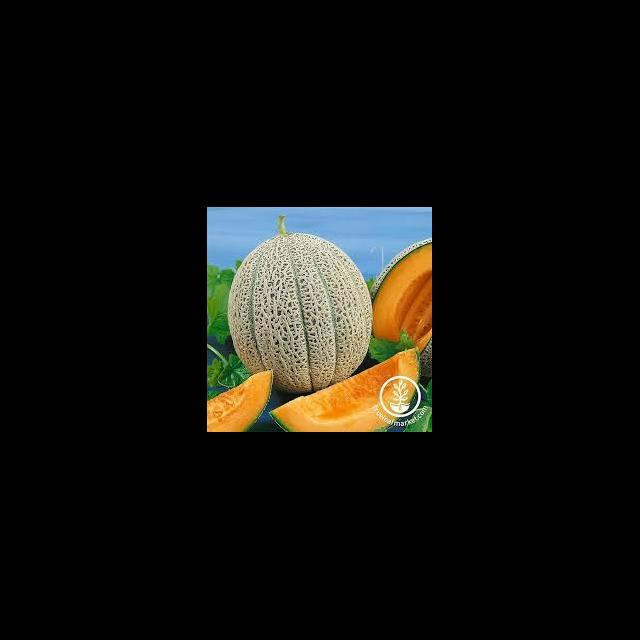Hami Melon: (229, 216, 373, 388), (271, 348, 423, 432)
